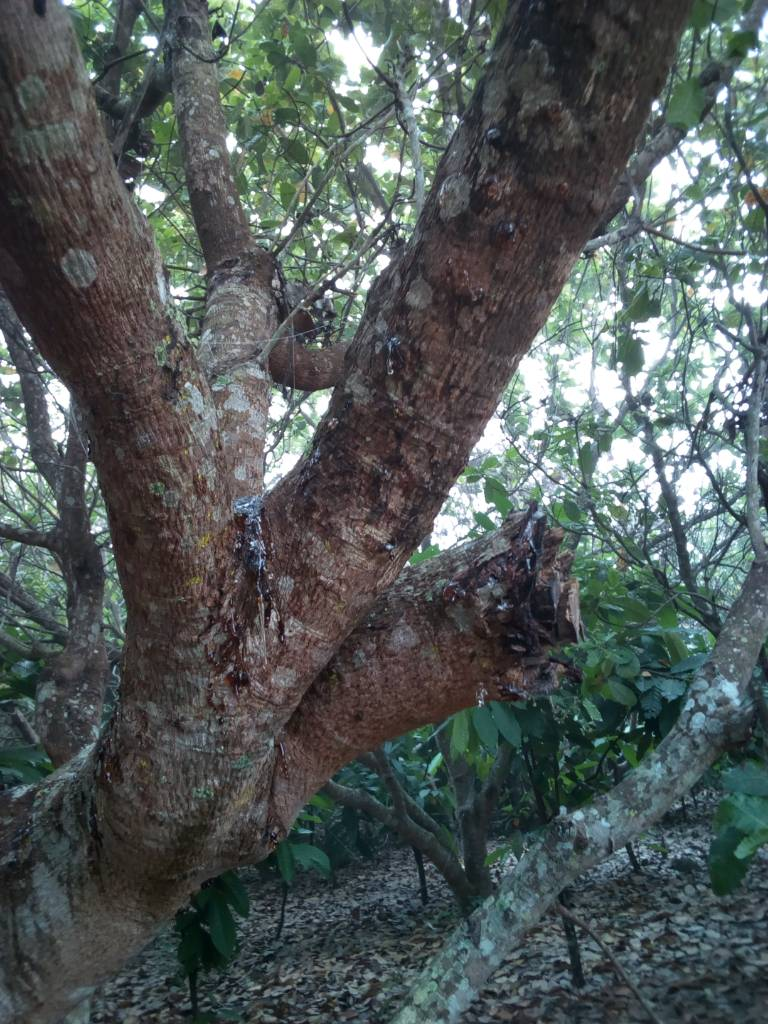Gommose: (430, 519, 550, 689), (219, 494, 279, 682), (372, 316, 419, 408)
